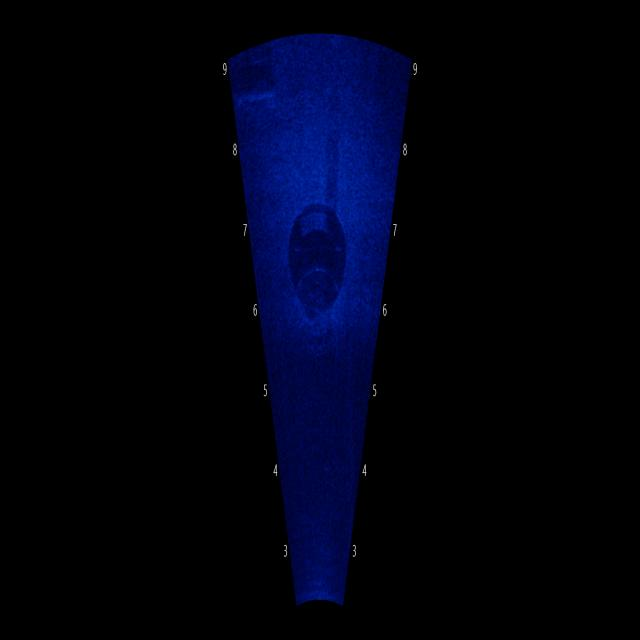circle: (285, 188, 355, 318)
